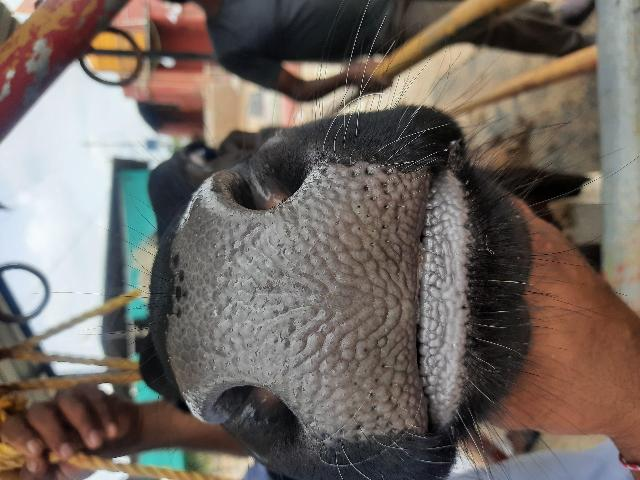Muzzle: (178, 222, 412, 382)
